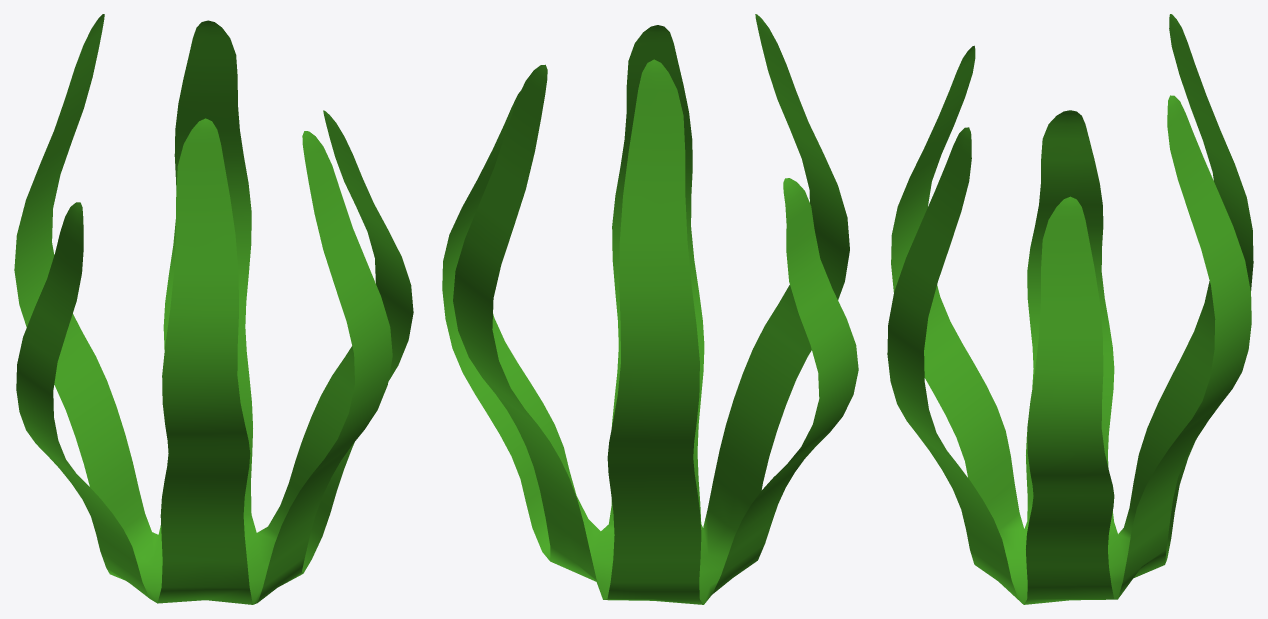
The model's file is seaweed6.fbx.
The picture shows the model from 3 angles, left to right: view 1: azimuth 30°, elevation 25°; view 2: azimuth 150°, elevation 25°; view 3: azimuth 270°, elevation 25°; orthographic projection. The views are drawn at different scales.
Visible parts, largest first — view 1: Seaweed6; view 2: Seaweed6; view 3: Seaweed6.
Part boxes in pixels (box(x1,y1,x2,y2)): Seaweed6: box(14, 14, 413, 604); Seaweed6: box(442, 14, 858, 604); Seaweed6: box(887, 14, 1253, 604).
Bounding box in the file's own units: 20.4 × 29.69 × 18.17.
